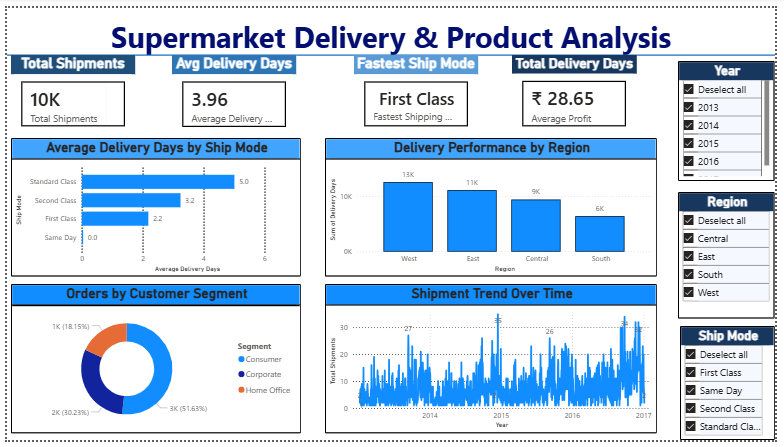

The dashboard page shown, as its layout file describes it:
{"tool":"powerbi","page":{"name":"Delivery & Shipping Analysis","canvas":[1280,720],"ordinal":2},"visuals":[{"type":"textbox","box":[0,0,1280.5,87.8],"z":0},{"type":"textbox","box":[0,10,1280.5,87.8],"z":1000},{"type":"shape","box":[0,1.5,1280.5,153.7],"z":2000},{"type":"cardVisual","title":"Total Shipments","fields":{"Data":["Supermarket sales.Total Shipments"]},"box":[7.3,79,207,136],"z":3000},{"type":"cardVisual","title":"Avg Delivery Days","fields":{"Data":["Supermarket sales.Average Delivery Days"]},"box":[275.1,79,207,137.6],"z":4000},{"type":"cardVisual","title":"Total Delivery Days","fields":{"Data":["Supermarket sales.Average Profit"]},"box":[841.5,79,207.8,136.1],"z":5000},{"type":"cardVisual","title":"Fastest Ship Mode","fields":{"Data":["Supermarket sales.Fastest Shipping Mode"]},"box":[578,79,207,136.1],"z":6000},{"type":"clusteredBarChart","title":"Average Delivery Days by Ship Mode","fields":{"Category":["Supermarket sales.Ship Mode"],"Y":["Supermarket sales.Average Delivery Days"]},"box":[7.3,216.6,482.9,231.2],"z":7000},{"type":"columnChart","title":"Delivery Performance by Region","fields":{"Category":["Supermarket sales.Region"],"Y":["Sum(Supermarket sales.Delivery Days)"]},"box":[529.8,216.6,553.2,231.2],"z":8000},{"type":"lineChart","title":"Shipment Trend Over Time","fields":{"Category":["Supermarket sales.Ship Date.Variation.Date Hierarchy.Year","Supermarket sales.Ship Date.Variation.Date Hierarchy.Quarter","Supermarket sales.Ship Date.Variation.Date Hierarchy.Month","Supermarket sales.Ship Date.Variation.Date Hierarchy.Day"],"Y":["Supermarket sales.Total Shipments"]},"box":[529.8,459.5,553.2,248.8],"z":9000},{"type":"donutChart","title":"Orders by Customer Segment","fields":{"Category":["Supermarket sales.Segment"],"Y":["Supermarket sales.Total Orders"]},"box":[7.3,459.5,482.9,248.8],"z":10000},{"type":"listSlicer","title":"Year","fields":{"Values":["Supermarket sales.Ship Year"]},"box":[1118,87.8,161,200.5],"z":11000},{"type":"listSlicer","title":"Ship Mode","fields":{"Values":["Supermarket sales.Ship Mode"]},"box":[1122,529.8,158,190.2],"z":12000},{"type":"listSlicer","title":"Region","fields":{"Values":["Supermarket sales.Region"]},"box":[1119,305.9,161,210.7],"z":13000}]}

Visuals, with their boxes in screenshot pixels (x1, y1, x2, y2), scaled from the page's 1280x720 canvas onto the 784x447 screenshot:
textbox: (0, 0, 783, 55)
textbox: (0, 6, 783, 61)
shape: (0, 1, 783, 96)
"Total Shipments" cardVisual: (4, 49, 131, 133)
"Avg Delivery Days" cardVisual: (168, 49, 295, 134)
"Total Delivery Days" cardVisual: (515, 49, 643, 134)
"Fastest Ship Mode" cardVisual: (354, 49, 481, 134)
"Average Delivery Days by Ship Mode" clusteredBarChart: (4, 134, 300, 278)
"Delivery Performance by Region" columnChart: (325, 134, 663, 278)
"Shipment Trend Over Time" lineChart: (325, 285, 663, 440)
"Orders by Customer Segment" donutChart: (4, 285, 300, 440)
"Year" listSlicer: (685, 55, 783, 179)
"Ship Mode" listSlicer: (687, 329, 783, 446)
"Region" listSlicer: (685, 190, 783, 321)
